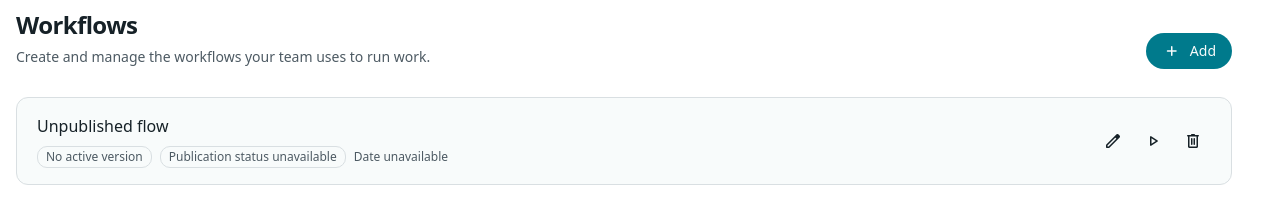
Test: workflow list › disables the row Run action with a reason when the workflow has no active version
Click the link named "Run".
click(1153, 141)  # box 1143,129 -> 1163,153
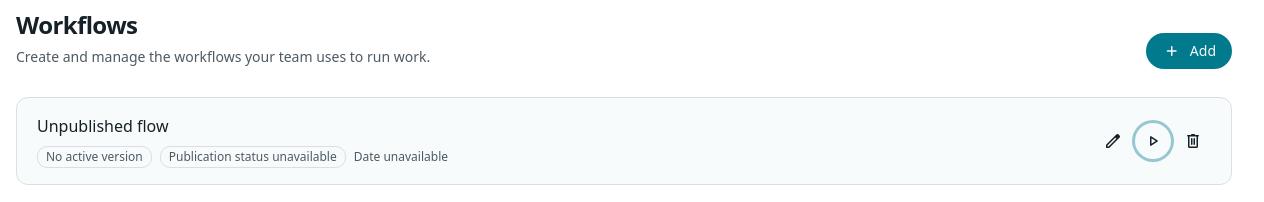
Expected: the list item "Unpublished flow" is shown, 16,97 -> 1232,185
Hover over the link named "Run".
mouse_move(1153, 141)  # box 1135,123 -> 1171,159
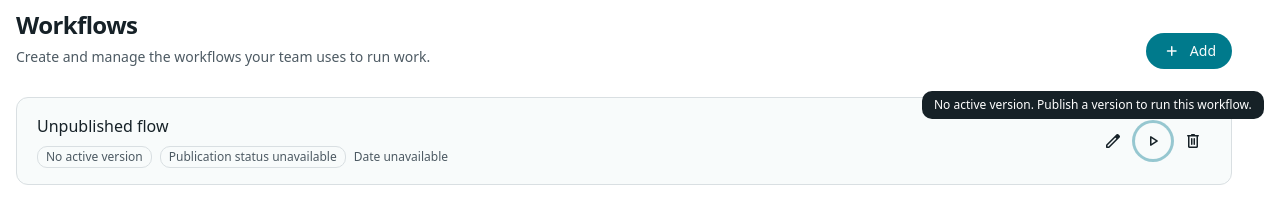
Result: the tooltip reads "No active version. Publish a version to run this workflow." at 934,96 -> 1252,113
